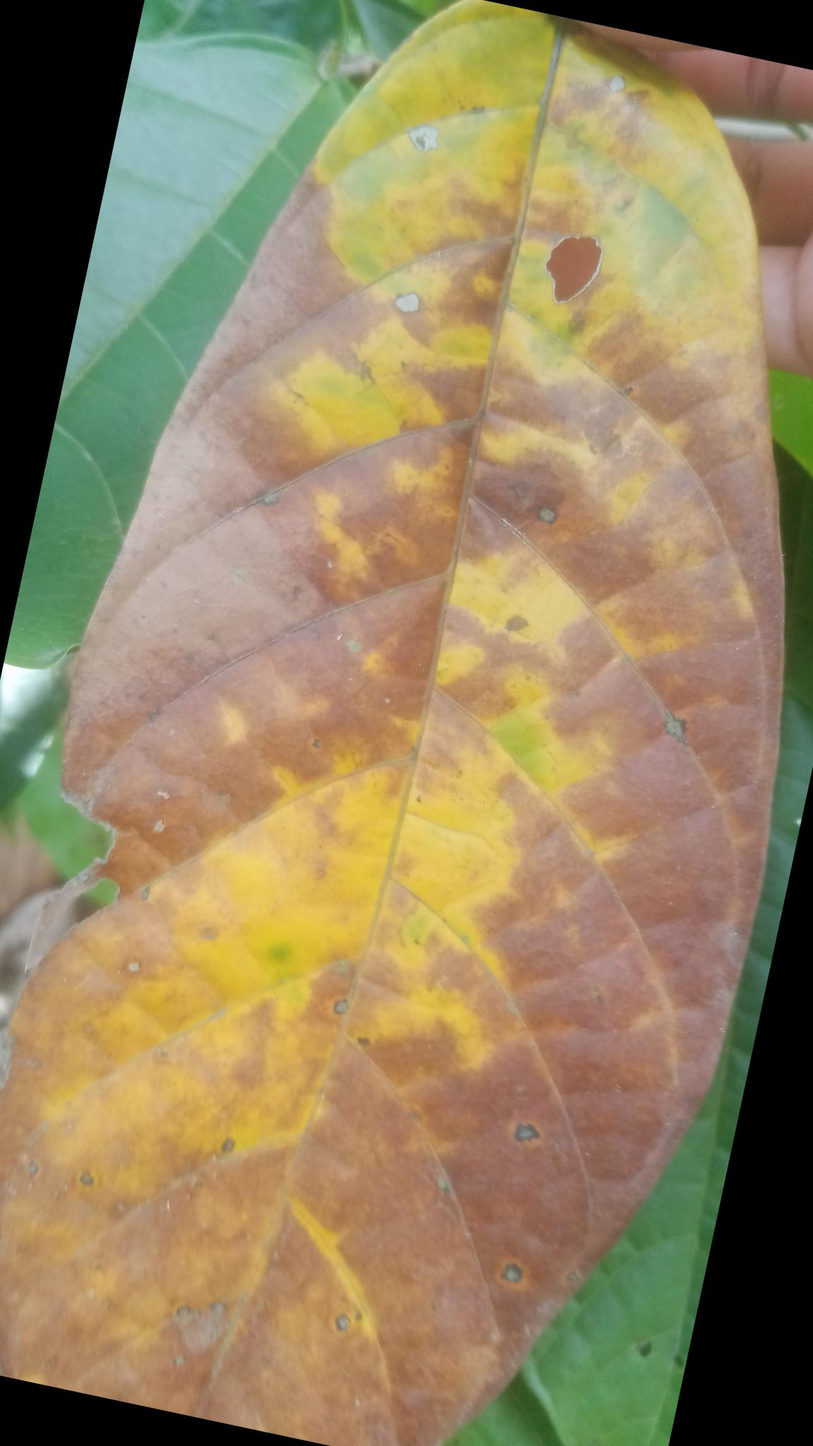Fosforo: (0, 0, 773, 1446)
